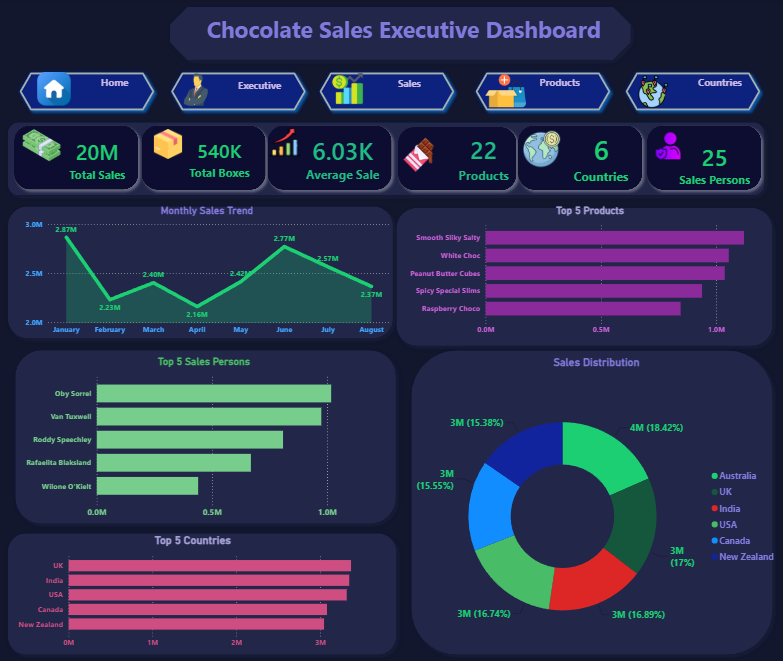

Layout of this report page (visuals, bound fields, positions):
{"tool":"powerbi","page":{"name":"Executive Summary","canvas":[1500,1100],"ordinal":1},"visuals":[{"type":"shape","box":[0,2.5,2298.2,1098.4],"z":0},{"type":"shape","box":[267.5,0,792.5,120],"z":1000},{"type":"actionButton","box":[355.2,116.3,239,79],"z":1000,"group":"g1"},{"type":"textbox","box":[279.5,22.3,779.3,69.3],"z":3000},{"type":"textbox","box":[427.4,129.1,169.4,53.3],"z":3000,"group":"g1"},{"type":"actionButton","box":[602.4,116.3,239,79],"z":4000,"group":"g1"},{"type":"cardVisual","fields":{"Data":["Table1.Average Sale"]},"box":[446.4,218.6,228.2,90.8],"z":4000},{"type":"shape","box":[0,329,818.8,249.9],"z":5000},{"type":"image","box":[356.1,126.9,98.1,53.3],"z":6000,"group":"g1"},{"type":"shape","box":[801.5,331.5,697.6,262.2],"z":6000},{"type":"actionButton","box":[857.4,116.3,239,79],"z":7000,"group":"g1"},{"type":"image","box":[657.9,216.9,68.3,50.6],"z":7000},{"type":"shape","box":[0,846,801.5,254.8],"z":8000},{"type":"actionButton","box":[1106.2,116.3,239,79],"z":9000,"group":"g1"},{"type":"image","box":[434.7,210.4,75,40.2],"z":9000},{"type":"lineChart","title":"Monthly Sales Trend","fields":{"Category":["Calendar.Month Name"],"Y":["Table1.Total Sales"]},"box":[39.6,341.4,742.1,225.1],"z":10000},{"type":"actionButton","box":[106.4,116.3,239,79],"z":11000,"group":"g1"},{"type":"barChart","title":"Top 5 Products","fields":{"Y":["Table1.Total Sales"],"Category":["Table1.Product"]},"box":[818.8,348.8,660.5,225.1],"z":11000},{"type":"shape","box":[12.4,566.5,806.5,291.9],"z":12000},{"type":"textbox","box":[197.8,124.6,147.1,60],"z":13000,"group":"g1"},{"type":"barChart","title":"Top 5 Countries","fields":{"Y":["Table1.Total Sales"],"Category":["Table1.Country"]},"box":[27.2,858.4,754.5,225.1],"z":13000},{"type":"barChart","title":"Top 5 Sales Persons","fields":{"Y":["Table1.Total Sales"],"Category":["Table1.Sales Person"]},"box":[39.6,578.9,761.9,267.2],"z":14000},{"type":"image","box":[130.9,124.6,80.3,55.5],"z":15000,"group":"g1"},{"type":"shape","box":[801.5,591.2,697.6,509.6],"z":15000},{"type":"donutChart","title":"Sales Distribution","fields":{"Category":["Table1.Country"],"Y":["Table1.Total Sales"]},"box":[781.7,616,697.6,484.9],"z":16000},{"type":"shape","box":[12.4,199.6,263.6,131.3],"z":17000},{"type":"group","id":"g1","title":"Group 1","box":[106.4,116.3,1239.4,79.2],"z":18000},{"type":"image","box":[618.5,123.7,79.2,59.4],"z":19000},{"type":"textbox","box":[672.6,126.9,173.9,42.2],"z":19000,"group":"g1"},{"type":"textbox","box":[935.7,124.6,144.9,57.7],"z":20000,"group":"g1"},{"type":"shape","box":[260.2,199.6,263,131.8],"z":20000},{"type":"shape","box":[505.6,199.6,263,131.8],"z":21000},{"type":"shape","box":[761.9,205.3,252.3,128.6],"z":22000},{"type":"image","box":[880,118,71.3,71.1],"z":23000,"group":"g1"},{"type":"shape","box":[994.3,199.6,263,131.8],"z":23000},{"type":"shape","box":[1243.6,199.6,243.4,131.8],"z":24000},{"type":"textbox","box":[1196.5,124.6,144.9,57.7],"z":25000,"group":"g1"},{"type":"cardVisual","fields":{"Data":["Table1.Total Sales"]},"box":[79.7,209.2,212,116.7],"z":25000},{"type":"image","box":[40.4,196.8,76.5,93.3],"z":26000},{"type":"image","box":[1120.7,129.1,78,55.5],"z":27000,"group":"g1"},{"type":"cardVisual","fields":{"Data":["Table1.Total Boxes"]},"box":[307.3,214.7,231.6,101.6],"z":27000},{"type":"image","box":[289.7,213.3,66.7,52.2],"z":28000},{"type":"cardVisual","fields":{"Data":["Table1.Countries"]},"box":[1033.6,200.9,263,129],"z":29000},{"type":"image","box":[1010,217.4,78.5,64.5],"z":30000},{"type":"cardVisual","fields":{"Data":["Table1.Sales Persons"]},"box":[1269,216.6,232.7,116.3],"z":31000},{"type":"image","box":[1243.6,216,104,53.5],"z":32000},{"type":"cardVisual","fields":{"Data":["Table1.Average Sale"]},"box":[550.1,195.4,226.8,137.5],"z":33000},{"type":"image","box":[514.8,209.8,69.9,55],"z":34000},{"type":"cardVisual","fields":{"Data":["Table1.Products"]},"box":[791.6,210.3,274.6,123.7],"z":35000},{"type":"image","box":[769.4,230.1,101.4,64.3],"z":36000}]}

Visuals, with their boxes on the page's 1500x1100 design canvas (x1, y1, x2, y2). These are canvas units, not pixel positions in the 783x661 screenshot, which may show the page scaled, cropped or inside an application window:
shape: 0:2:2298:1101
shape: 268:0:1060:120
actionButton: 355:116:594:195
textbox: 280:22:1059:92
textbox: 427:129:597:182
actionButton: 602:116:841:195
cardVisual - Table1.Average Sale: 446:219:675:309
shape: 0:329:819:579
image: 356:127:454:180
shape: 802:332:1499:594
actionButton: 857:116:1096:195
image: 658:217:726:268
shape: 0:846:802:1101
actionButton: 1106:116:1345:195
image: 435:210:510:251
"Monthly Sales Trend" lineChart: 40:341:782:566
actionButton: 106:116:345:195
"Top 5 Products" barChart: 819:349:1479:574
shape: 12:566:819:858
textbox: 198:125:345:185
"Top 5 Countries" barChart: 27:858:782:1084
"Top 5 Sales Persons" barChart: 40:579:802:846
image: 131:125:211:180
shape: 802:591:1499:1101
"Sales Distribution" donutChart: 782:616:1479:1101
shape: 12:200:276:331
"Group 1" group: 106:116:1346:196
image: 618:124:698:183
textbox: 673:127:846:169
textbox: 936:125:1081:182
shape: 260:200:523:331
shape: 506:200:769:331
shape: 762:205:1014:334
image: 880:118:951:189
shape: 994:200:1257:331
shape: 1244:200:1487:331
textbox: 1196:125:1341:182
cardVisual - Table1.Total Sales: 80:209:292:326
image: 40:197:117:290
image: 1121:129:1199:185
cardVisual - Table1.Total Boxes: 307:215:539:316
image: 290:213:356:266
cardVisual - Table1.Countries: 1034:201:1297:330
image: 1010:217:1088:282
cardVisual - Table1.Sales Persons: 1269:217:1502:333
image: 1244:216:1348:270
cardVisual - Table1.Average Sale: 550:195:777:333
image: 515:210:585:265
cardVisual - Table1.Products: 792:210:1066:334
image: 769:230:871:294
